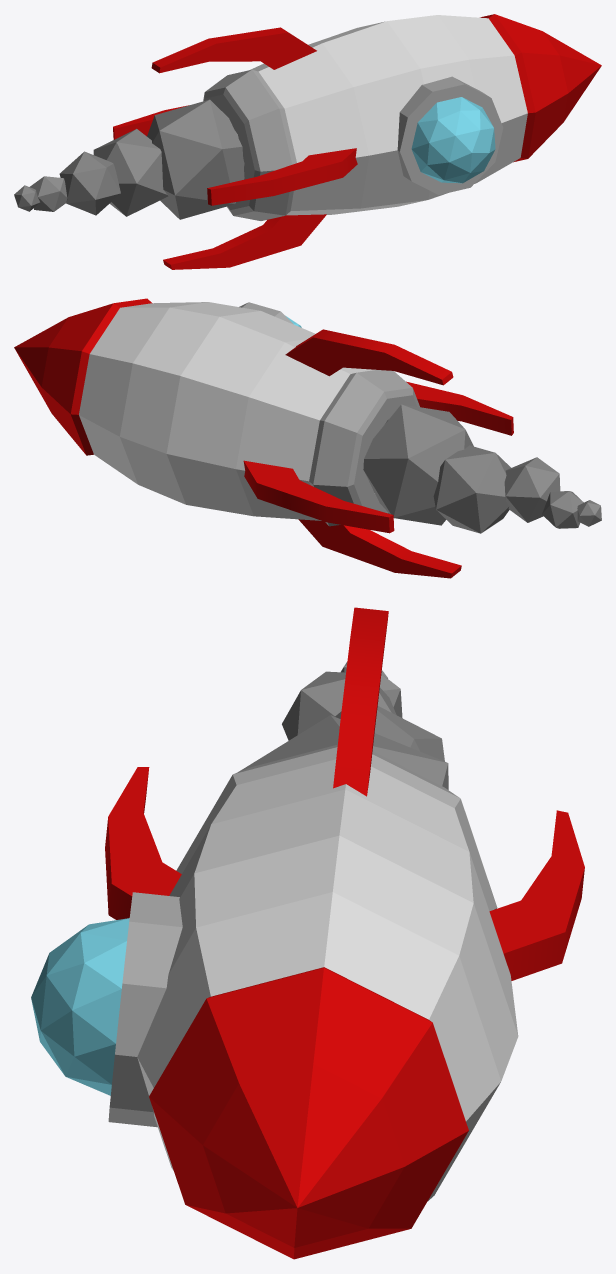
The model's file is spaceShip.gltf.
The picture shows the model from 3 angles, top to bottom: view 1: azimuth 30°, elevation 25°; view 2: azimuth 150°, elevation 25°; view 3: azimuth 270°, elevation 25°; orthographic projection. The views are drawn at different scales.
Visible parts, largest first — view 1: Rocket Ship 01_Material #28_0.001; view 2: Rocket Ship 01_Material #28_0.001; view 3: Rocket Ship 01_Material #28_0.001.
Boxes of the visible parts, x1=… form: Rocket Ship 01_Material #28_0.001: x1=14, y1=14, x2=601, y2=269; Rocket Ship 01_Material #28_0.001: x1=14, y1=298, x2=601, y2=578; Rocket Ship 01_Material #28_0.001: x1=31, y1=607, x2=584, y2=1259.
Size of the model in its own units: 8.11 by 2.96 by 3.42.
